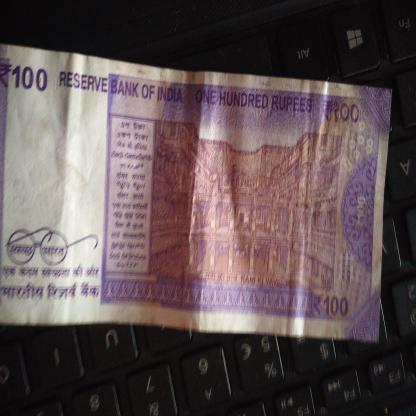New100Back: (0, 43, 390, 334)
